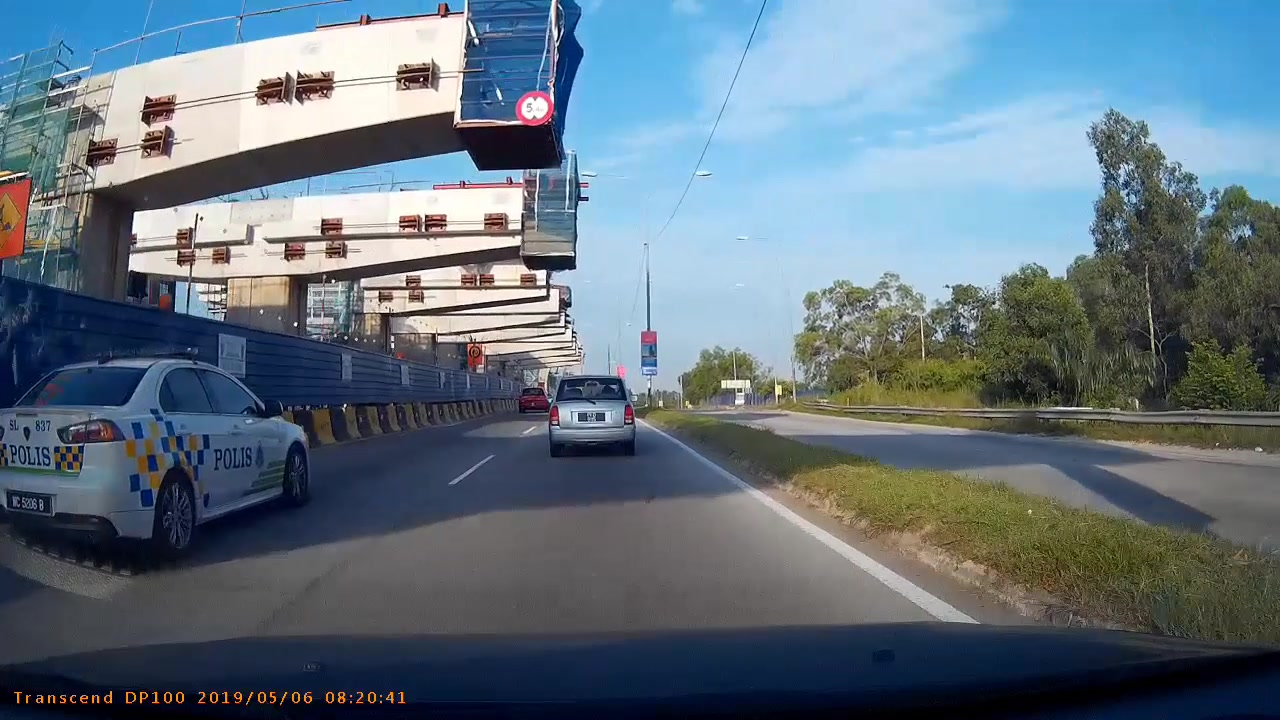license-plate: (10, 495, 44, 511)
